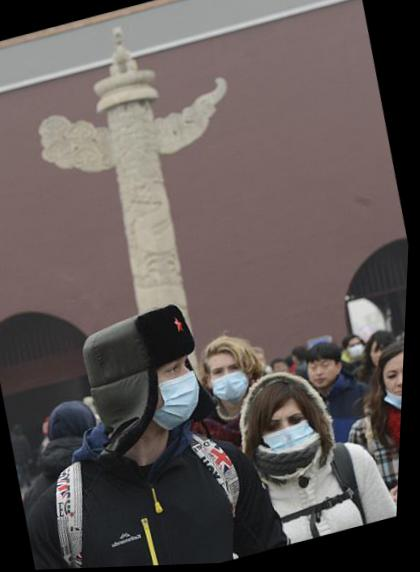NONE: (310, 359, 342, 392)
OK: (128, 347, 216, 434), (260, 402, 329, 470), (209, 361, 256, 409), (348, 340, 371, 364)
WRONG: (382, 363, 407, 412)
